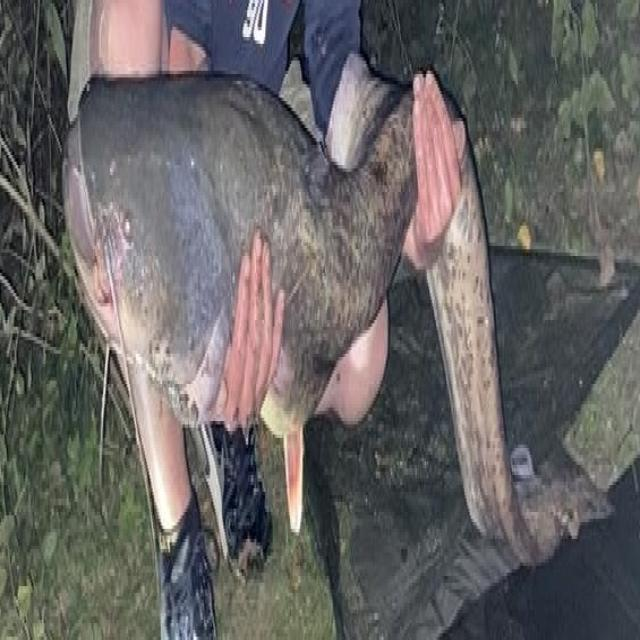Catfish: (42, 36, 530, 572)
